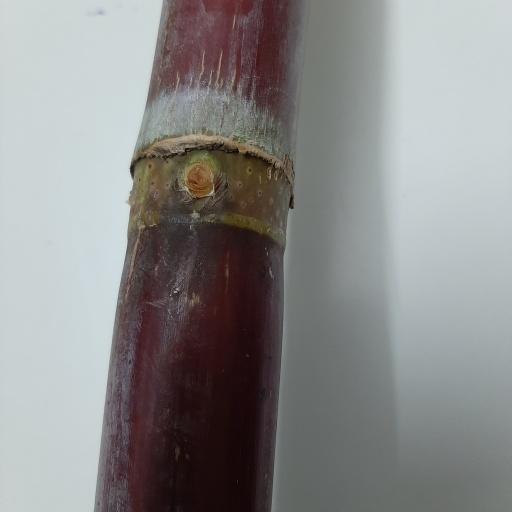Damage_Bud: (184, 163, 216, 200)
